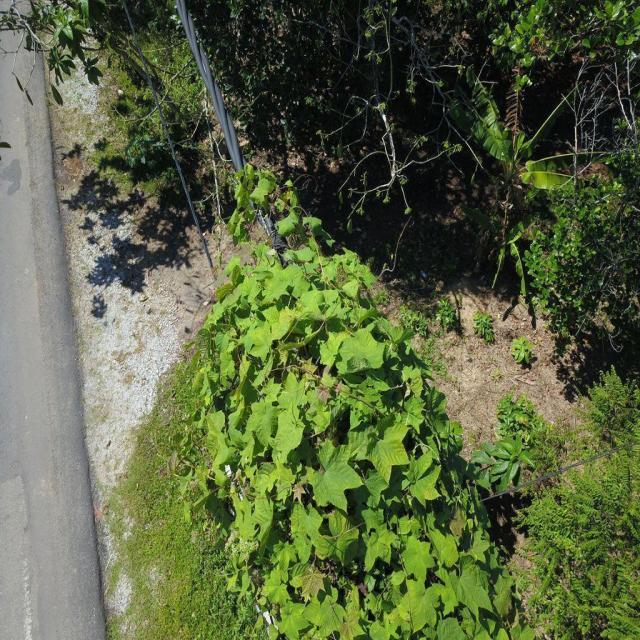critical vegetation: (190, 156, 498, 640)
